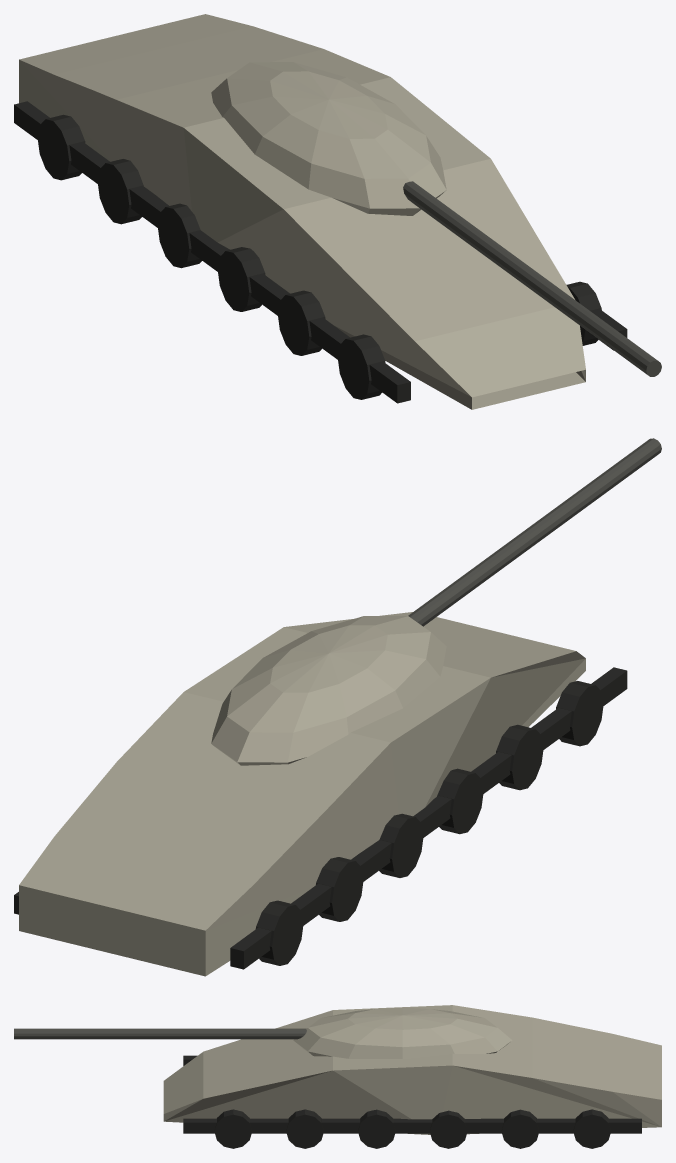
The picture shows the model from 3 angles, top to bottom: view 1: azimuth 30°, elevation 25°; view 2: azimuth 150°, elevation 25°; view 3: azimuth 270°, elevation 25°; orthographic projection. The views are drawn at different scales.
Parts seen in each view (by area): view 1: Hull, Turret, Track_L, Gun, Wheel_L_06, Wheel_L_01, Wheel_L_02, Wheel_L_03, Wheel_L_05, Wheel_L_04, Wheel_R_01; view 2: Hull, Turret, Track_L, Gun, Wheel_L_06, Wheel_L_02, Wheel_L_01, Wheel_L_05, Wheel_L_03, Wheel_L_04; view 3: Hull, Turret, Track_R, Gun, Wheel_R_06, Wheel_R_02, Wheel_R_01, Wheel_R_03, Wheel_R_05, Wheel_R_04.
Part boxes in pixels (x1,y1,x2,y2): Hull: [19, 14, 585, 409]; Turret: [211, 62, 446, 215]; Track_L: [14, 101, 410, 403]; Gun: [403, 181, 661, 376]; Wheel_L_06: [37, 114, 85, 180]; Wheel_L_01: [337, 334, 385, 399]; Wheel_L_02: [277, 290, 325, 355]; Wheel_L_03: [217, 247, 265, 311]; Wheel_L_05: [97, 159, 143, 224]; Wheel_L_04: [157, 203, 201, 268]; Wheel_R_01: [566, 281, 601, 345]; Hull: [19, 612, 585, 976]; Turret: [211, 616, 446, 765]; Track_L: [230, 667, 627, 969]; Gun: [408, 438, 661, 626]; Wheel_L_06: [255, 900, 303, 965]; Wheel_L_02: [496, 724, 543, 790]; Wheel_L_01: [556, 681, 603, 746]; Wheel_L_05: [316, 857, 363, 921]; Wheel_L_03: [437, 768, 483, 834]; Wheel_L_04: [379, 813, 423, 877]; Hull: [163, 1005, 661, 1134]; Turret: [293, 1007, 512, 1058]; Track_R: [183, 1118, 641, 1133]; Gun: [14, 1028, 306, 1039]; Wheel_R_06: [573, 1109, 610, 1148]; Wheel_R_02: [286, 1109, 323, 1148]; Wheel_R_01: [214, 1109, 252, 1148]; Wheel_R_03: [358, 1109, 395, 1148]; Wheel_R_05: [501, 1109, 539, 1148]; Wheel_R_04: [429, 1110, 467, 1148].
Size of the model in its own units: 3.21 by 2.18 by 12.87.
